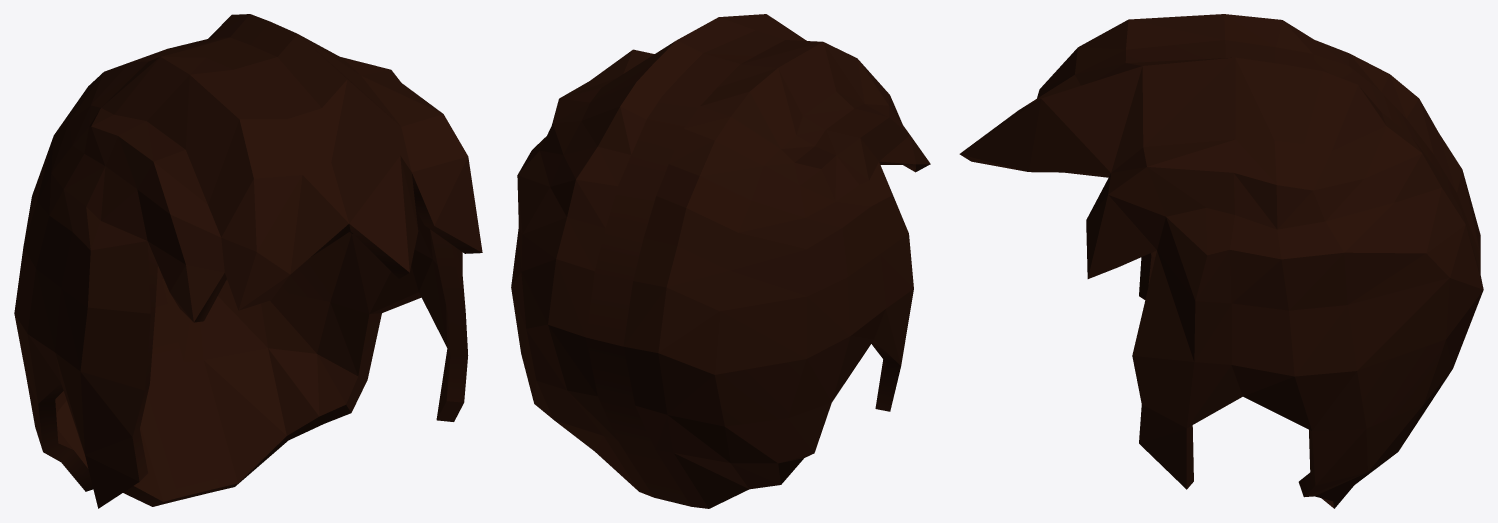
File: cabelo1.FBX
3 renders of one model, left to right at view 1: azimuth 30°, elevation 25°; view 2: azimuth 150°, elevation 25°; view 3: azimuth 270°, elevation 25°, orthographic. The views are drawn at different scales.
Parts seen in each view (by area): view 1: CabeloBase002; view 2: CabeloBase002; view 3: CabeloBase002.
Boxes of the visible parts, bbox=[...] form: CabeloBase002: bbox=[14, 14, 482, 508]; CabeloBase002: bbox=[511, 14, 930, 508]; CabeloBase002: bbox=[959, 14, 1483, 508].
Size of the model in its own units: 82.1 by 95.93 by 99.81.
